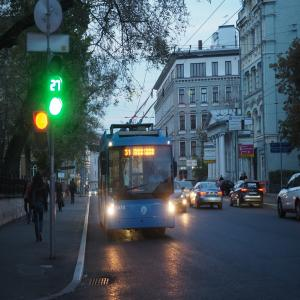Vehicle-registration-plate: (208, 192, 216, 197), (250, 193, 258, 196)
